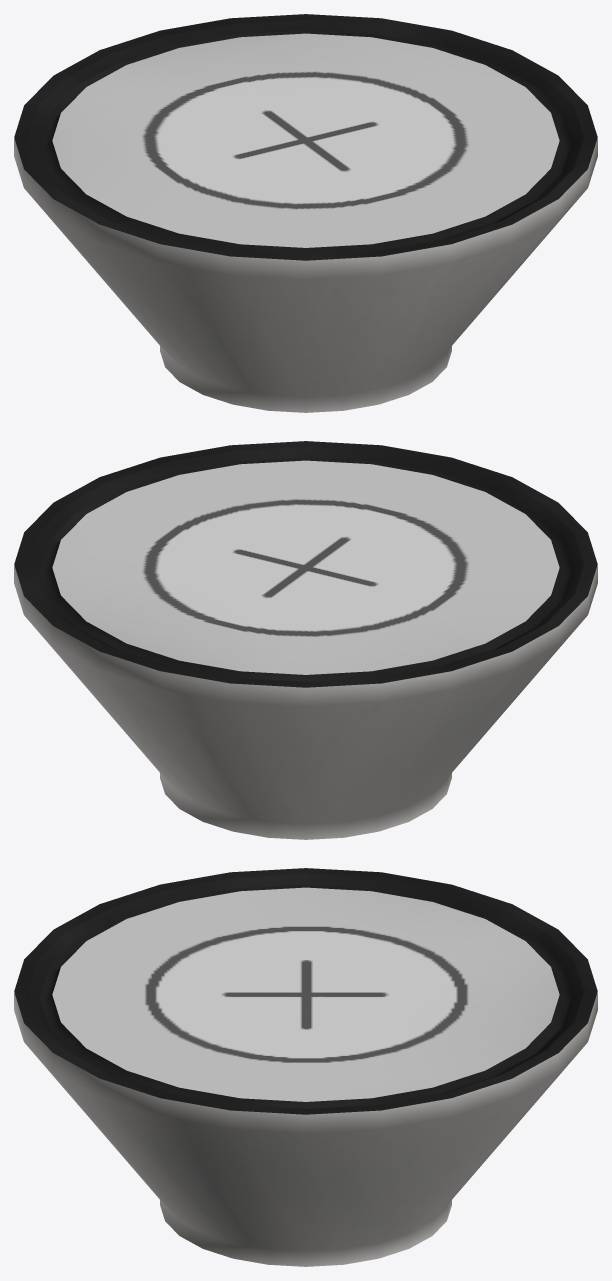
Rendered from adapter2.fbx.
The picture shows the model from 3 angles, top to bottom: view 1: azimuth 30°, elevation 25°; view 2: azimuth 150°, elevation 25°; view 3: azimuth 270°, elevation 25°; orthographic projection.
Parts seen in each view (by area): view 1: adapter; view 2: adapter; view 3: adapter.
Part boxes in pixels (x1,y1,x2,y2): adapter: (14, 14, 597, 412); adapter: (14, 441, 597, 839); adapter: (14, 868, 597, 1266).
Size of what is drawn, in the model's own units: 5 by 2.02 by 5.
Materials: 1 (1 with a texture image).
